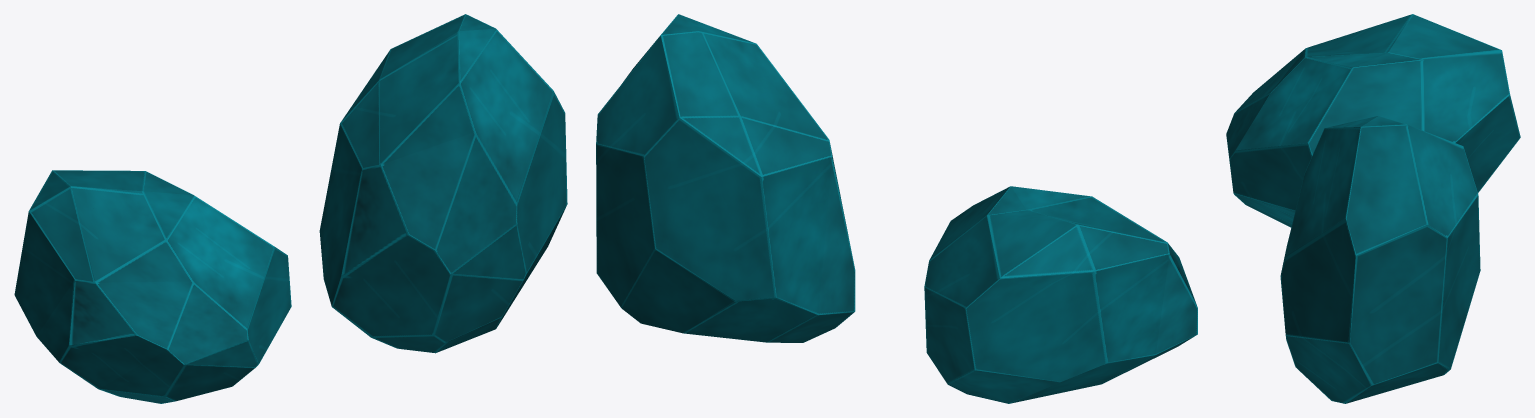
Rendered from pedras.fbx.
3 renders of one model, left to right at view 1: azimuth 30°, elevation 25°; view 2: azimuth 150°, elevation 25°; view 3: azimuth 270°, elevation 25°, orthographic. The views are drawn at different scales.
Visible parts, largest first — view 1: pedra.001, pedra; view 2: pedra.001, pedra; view 3: pedra.001, pedra.
Part boxes in pixels (box(x1,y1,x2,y2)): pedra.001: box(319, 14, 567, 353); pedra: box(14, 170, 291, 403); pedra.001: box(596, 14, 855, 342); pedra: box(924, 186, 1197, 403); pedra.001: box(1280, 115, 1480, 403); pedra: box(1226, 14, 1520, 227).
Bounding box in the file's own units: 469 × 248 × 231.
1 material, 1 textured.
